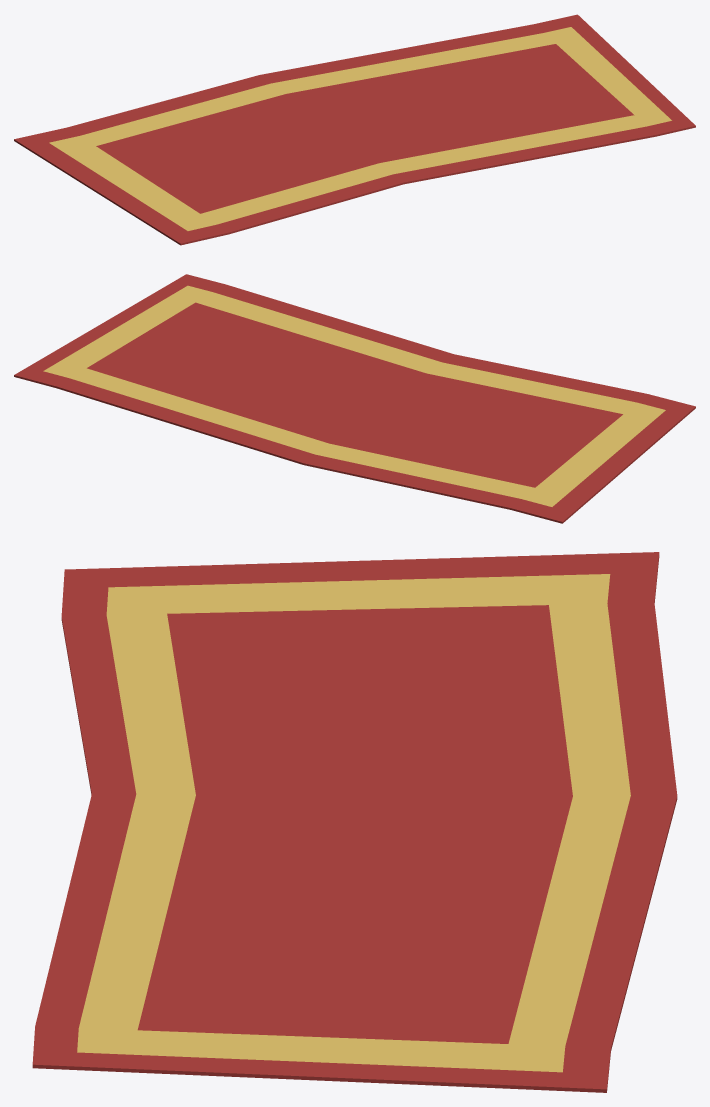
File: Alfombra.fbx
3 renders of one model, top to bottom at view 1: azimuth 30°, elevation 25°; view 2: azimuth 150°, elevation 25°; view 3: azimuth 270°, elevation 25°, orthographic. The views are drawn at different scales.
Parts seen in each view (by area): view 1: Cube.001; view 2: Cube.001; view 3: Cube.001.
Boxes of the visible parts, x1,y1,x2,y2 form: Cube.001: (14, 14, 695, 245); Cube.001: (14, 274, 695, 523); Cube.001: (32, 552, 677, 1092).
Bounding box in the file's own units: 467 × 1.44 × 237.
